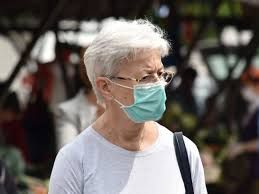with-mask: (90, 29, 175, 128)
